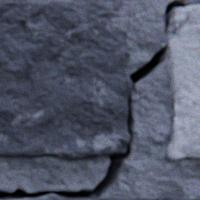brick: (0, 2, 130, 160), (166, 6, 199, 161), (19, 194, 199, 199)
crack: (0, 0, 199, 199)
